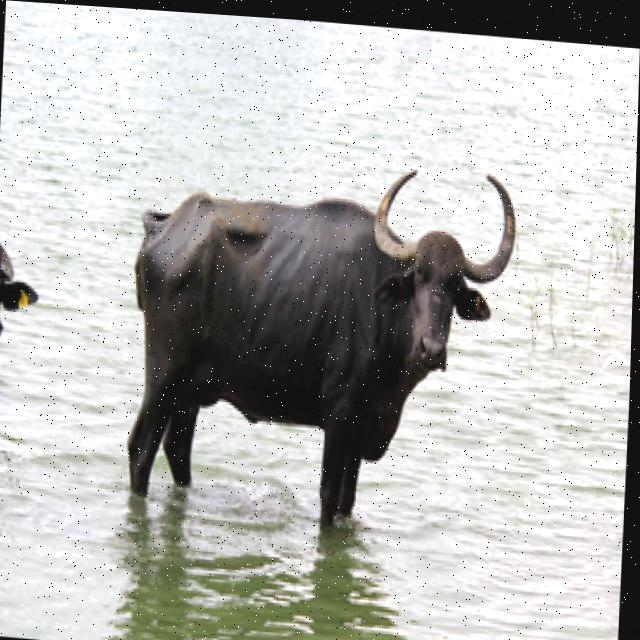Buffalo: (121, 135, 518, 532)
